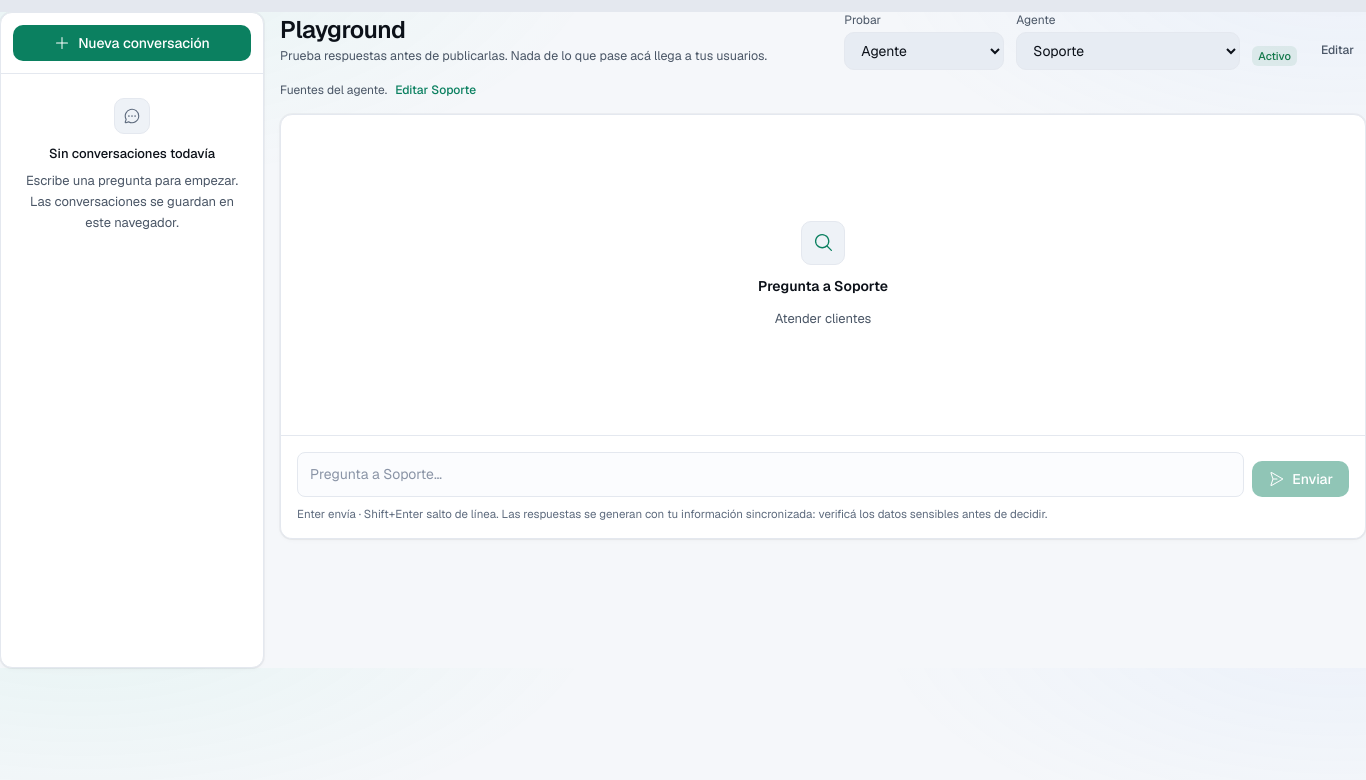
Test: Playground Chat › elige el primer agente activo y dispara run/stream
This screenshot has width=1366, height=780.
expect the element with test id "playground-target-bar" is shown: met, box [844, 12, 1365, 70]
expect the dropdown named "Agente a probar" shows "Soporte": met, box [1016, 32, 1240, 70]
In the text box named "Tu pregunta": (771, 474) [297, 452, 1244, 497], type "hola"
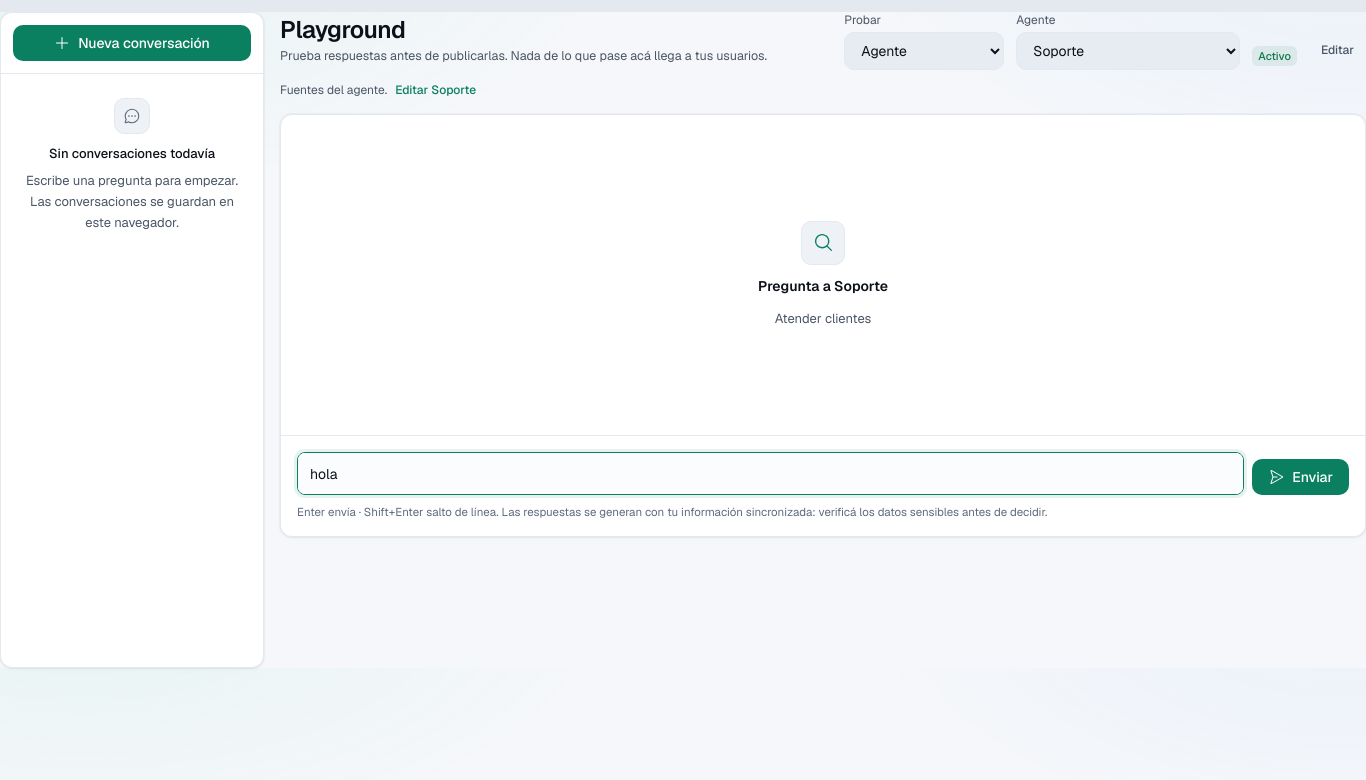
Click the button with aria-label "Enviar pregunta": (1301, 477) [1252, 459, 1349, 495]
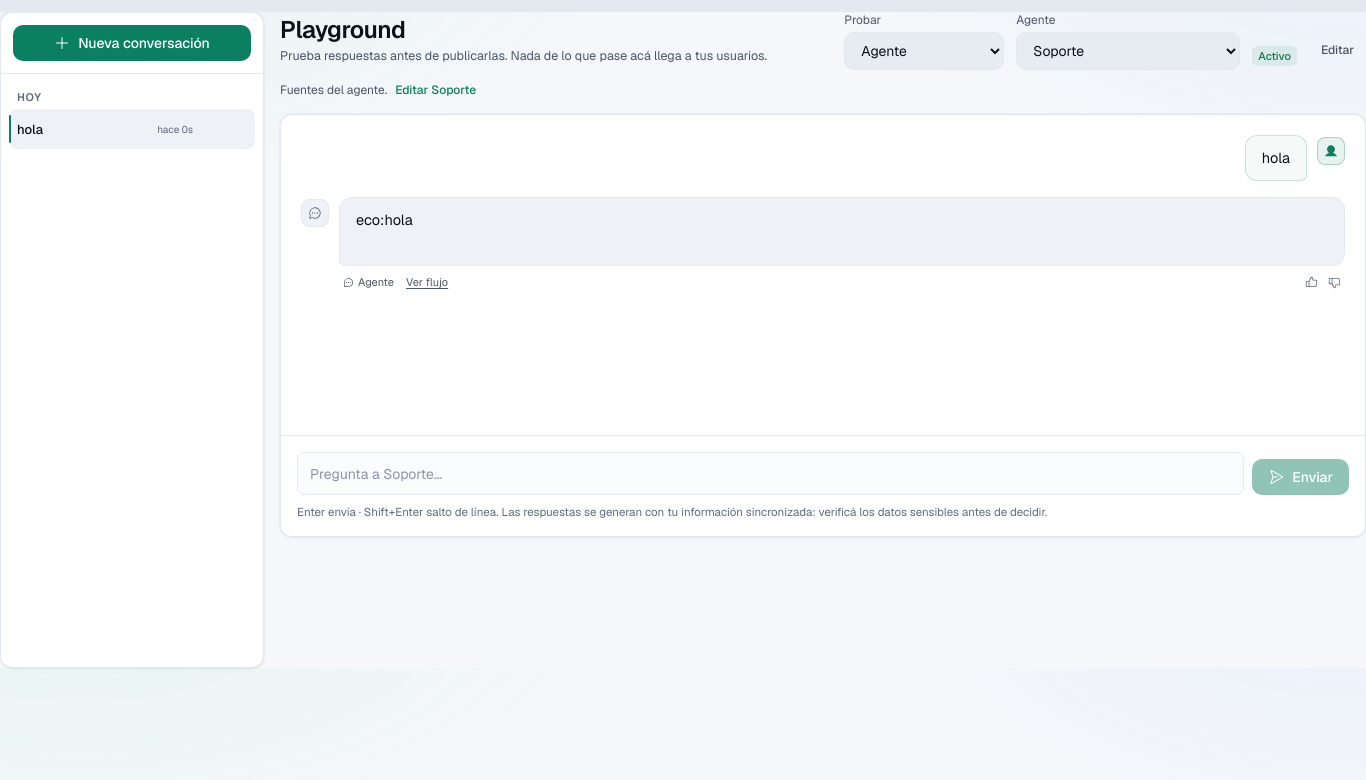
expect the text "eco:hola" is shown: met, box [356, 210, 413, 229]
